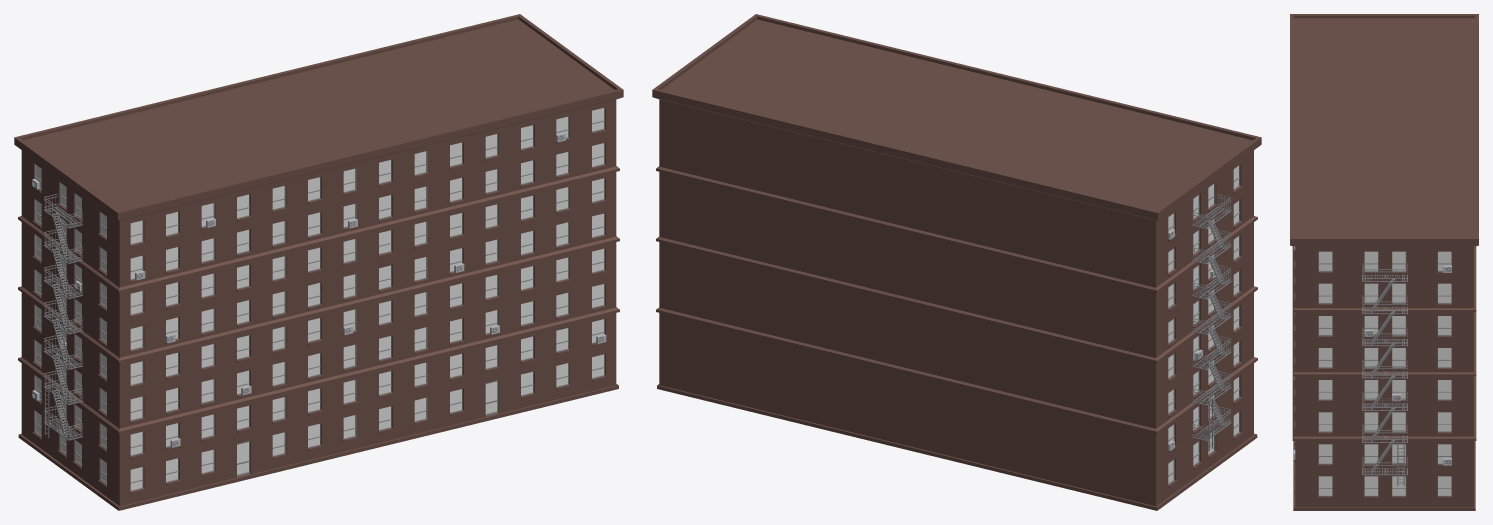
The picture shows the model from 3 angles, left to right: view 1: azimuth 30°, elevation 25°; view 2: azimuth 150°, elevation 25°; view 3: azimuth 270°, elevation 25°; orthographic projection. The views are drawn at different scales.
Parts seen in each view (by area): view 1: Building_11, ladder11_2; view 2: Building_11, ladder11_2; view 3: Building_11, ladder11_1.
Boxes of the visible parts, left/top/right/bottom form: Building_11: left=14, top=14, right=623, bottom=510; ladder11_2: left=43, top=193, right=82, bottom=440; Building_11: left=652, top=14, right=1261, bottom=510; ladder11_2: left=1192, top=194, right=1231, bottom=451; Building_11: left=1290, top=14, right=1478, bottom=510; ladder11_1: left=1362, top=263, right=1407, bottom=485.
Size of the model in its own units: 3866 by 2100 by 1315.
